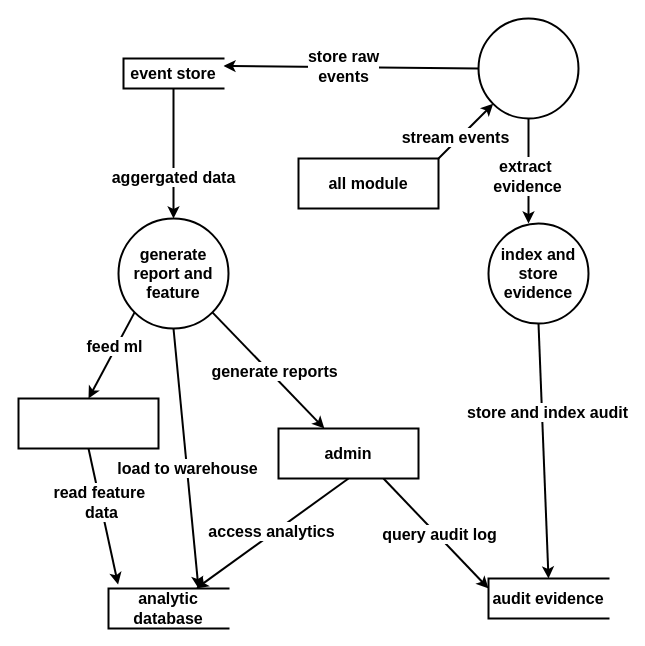
Image size: 645x646. Some labels were removed from this diagram. Each missing label, with the centre of its shape:
"collect event log" goes at point 528,68.
"ml services" goes at point 88,423.
